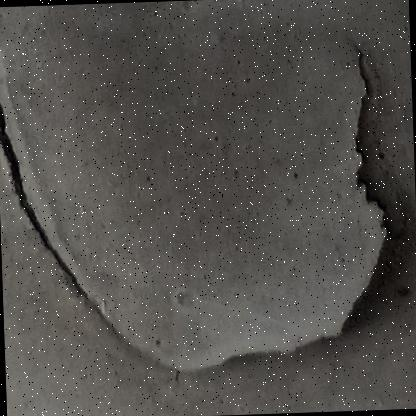Crack: (47, 106, 402, 408), (273, 15, 415, 413), (0, 5, 72, 414)
